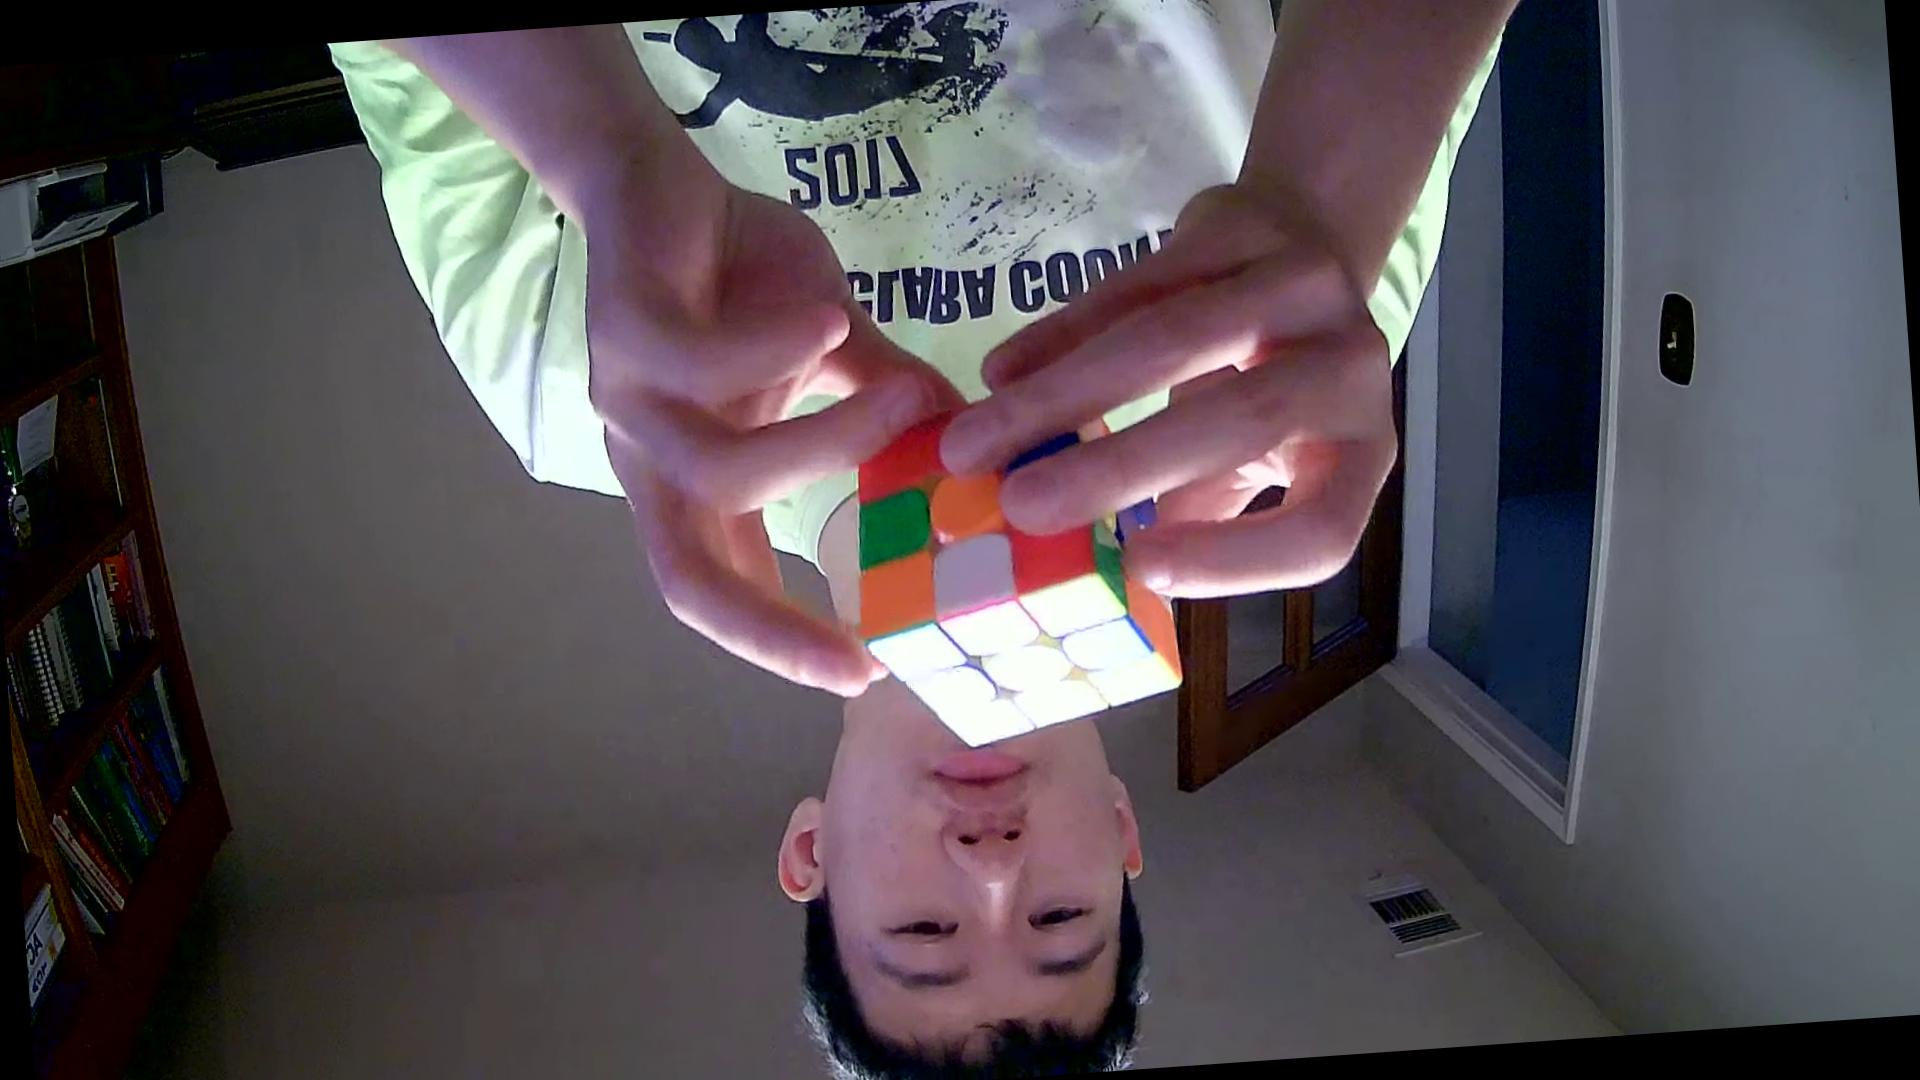Rubiks-Cube: (843, 390, 1203, 756)
